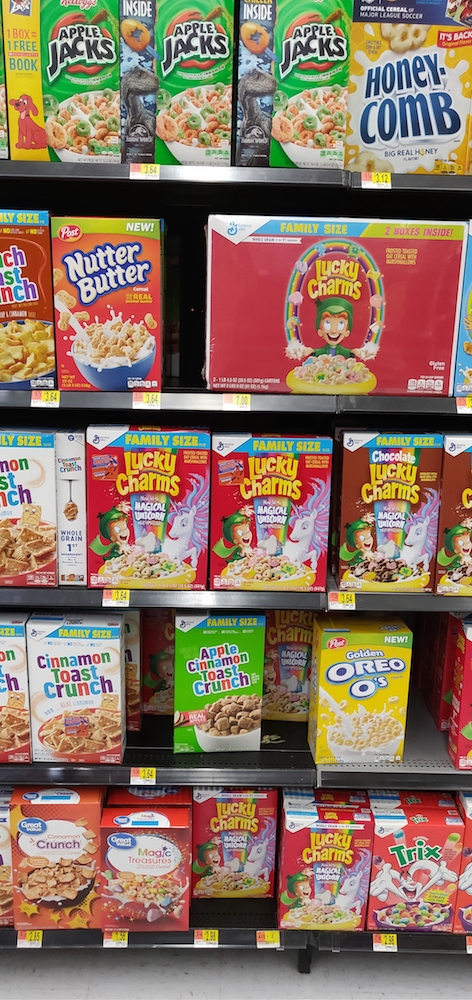Nutter Butter-565717511: (50, 209, 162, 386)
Oreo Golden-568301011: (309, 624, 418, 767)
